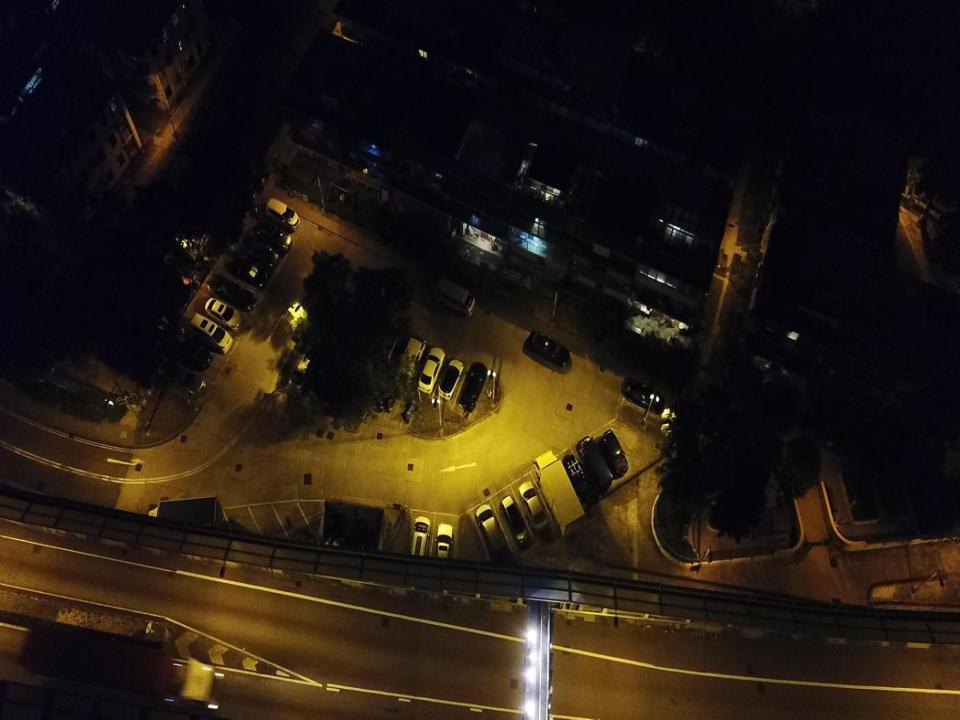bus: (434, 278, 475, 318)
car: (159, 356, 206, 400), (189, 312, 233, 354), (518, 480, 549, 536), (526, 330, 571, 368), (168, 333, 214, 370), (562, 453, 594, 506), (621, 378, 665, 415), (500, 494, 530, 546), (396, 334, 426, 386), (458, 361, 488, 412), (214, 277, 257, 312), (255, 217, 294, 255), (417, 346, 446, 394), (241, 235, 279, 271), (204, 297, 242, 332), (601, 429, 628, 477), (231, 254, 268, 288), (266, 197, 300, 232), (378, 329, 403, 372), (438, 359, 464, 400), (409, 516, 431, 564), (434, 522, 454, 568)
truck: (49, 620, 217, 716), (532, 450, 586, 538), (146, 496, 223, 536)
van: (475, 502, 512, 563), (575, 435, 613, 494)
